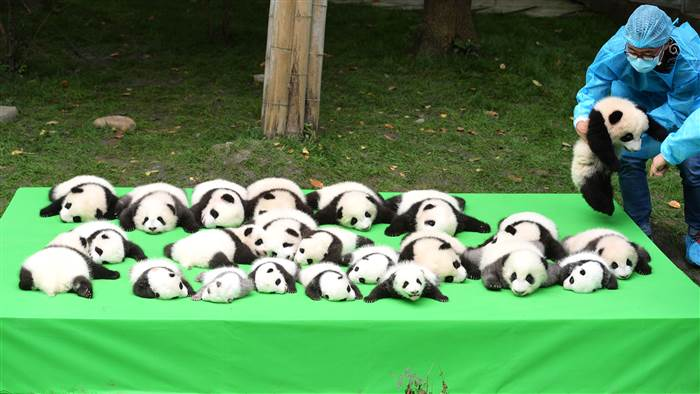panda: (29, 226, 119, 326), (482, 249, 577, 323), (377, 260, 455, 318), (126, 252, 188, 305)
